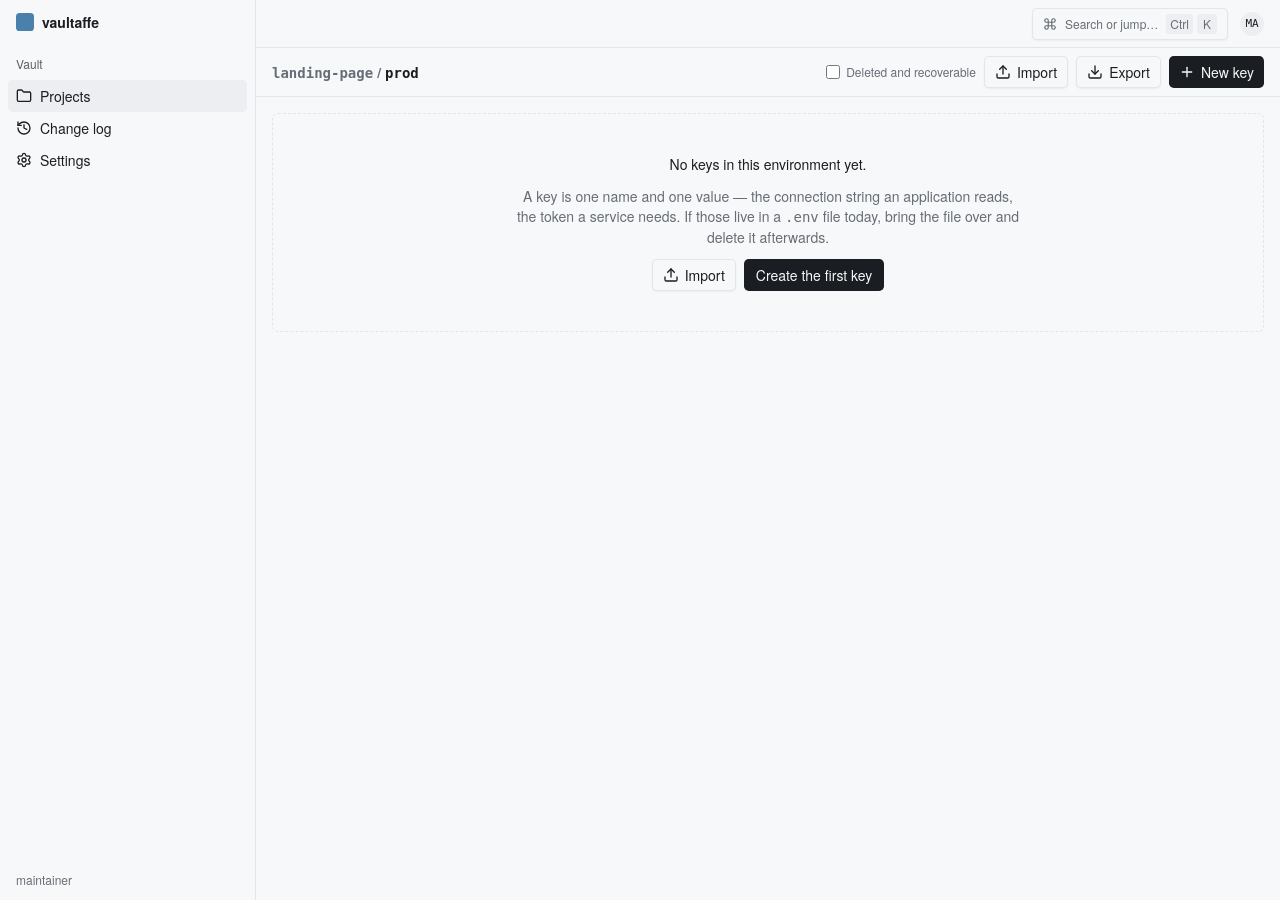
Test case: the environment screen › answers an import with names and never with values
Click the button "Import" next to "Deleted and recoverable".
click(1026, 72)  # box [984, 56, 1068, 88]
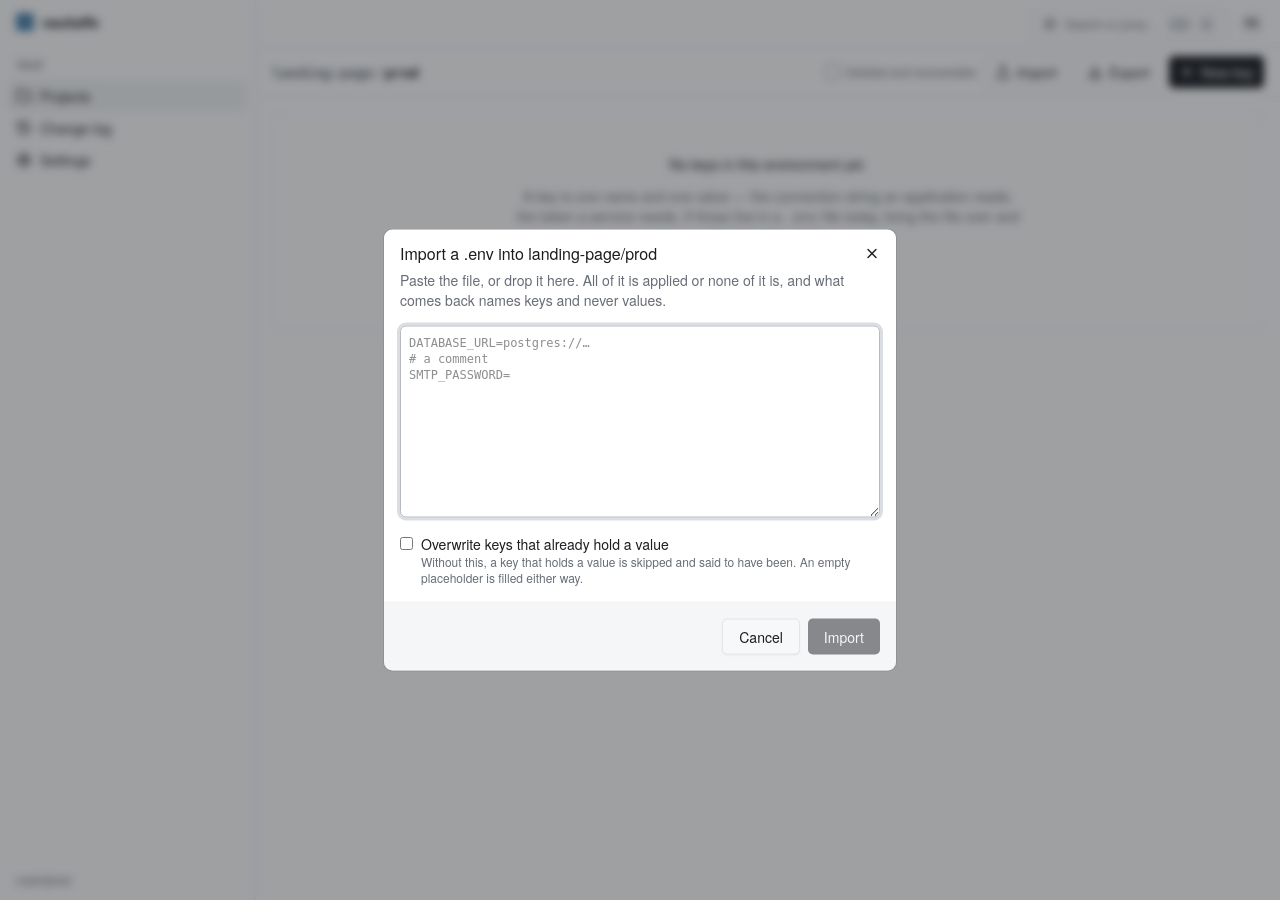
Type "DATABASE_URL=postgres://somewhere" into the text box named "The contents of a .env file".
click(640, 422); type("DATABASE_URL=postgres://somewhere")  # box [400, 326, 880, 518]
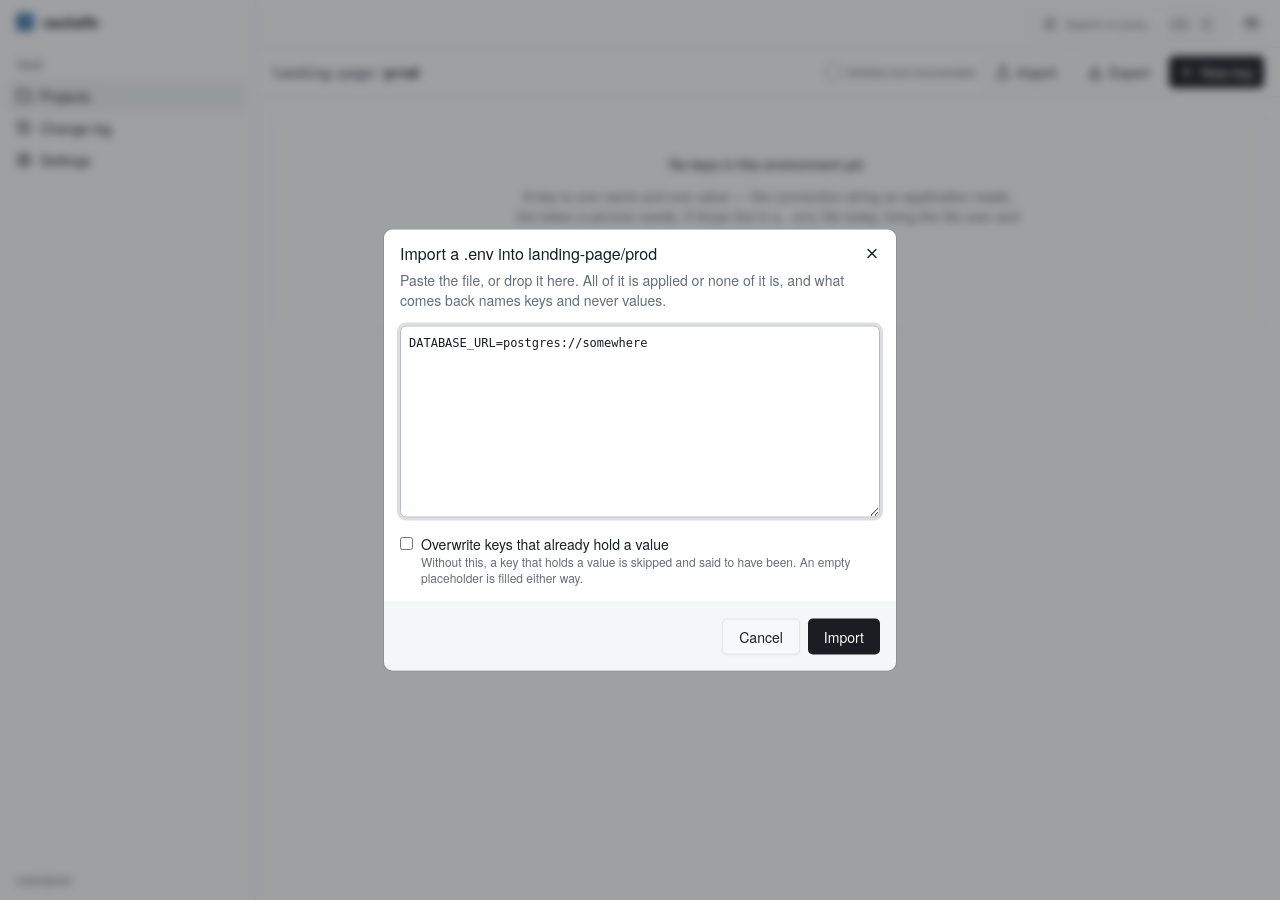
Click the button "Import".
click(844, 636)  # box [808, 618, 880, 654]
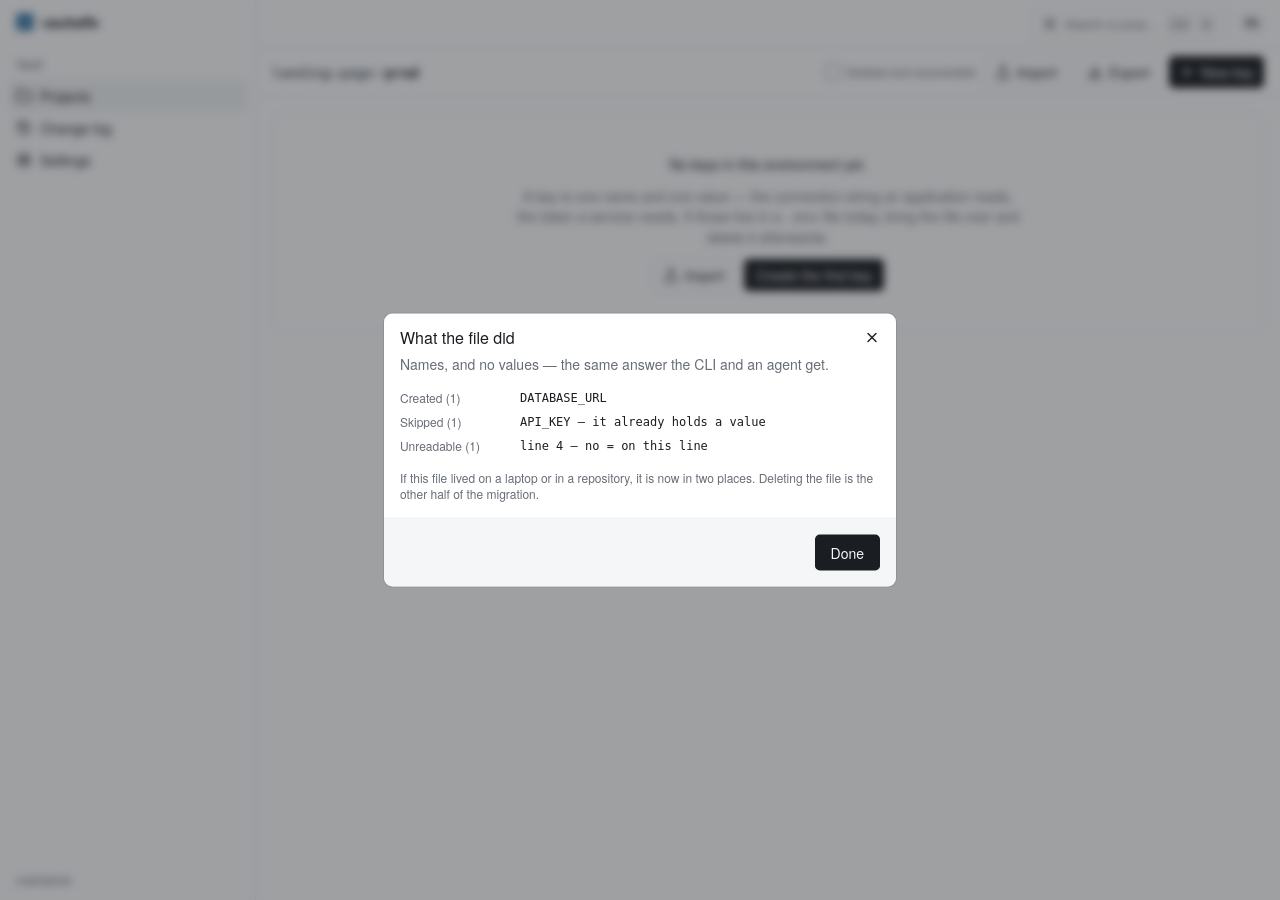
expect the heading "What the file did" is shown: met, box [400, 326, 515, 348]
expect the text "DATABASE_URL" is shown: met, box [520, 390, 607, 404]
expect the text "line 4 — no = on this line" is shown: met, box [520, 438, 708, 452]
